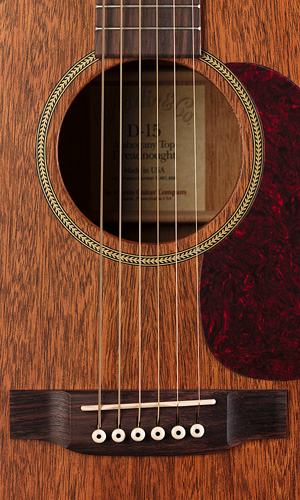guitar: (1, 1, 299, 498)
